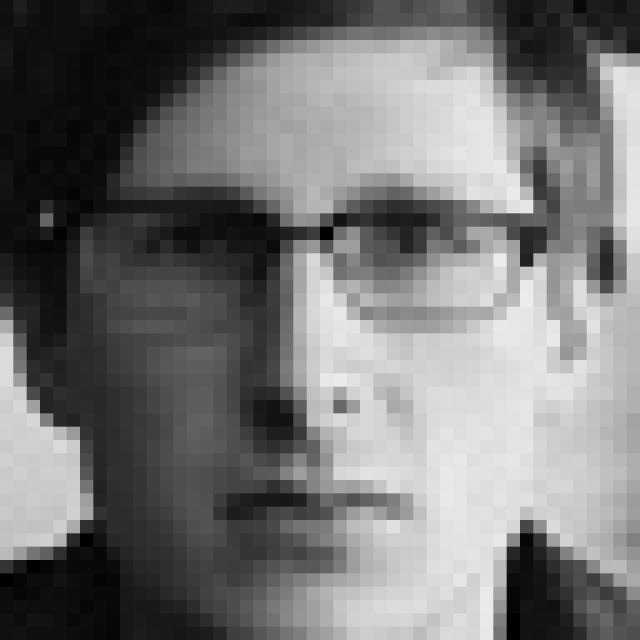neutral: (116, 171, 517, 578)
